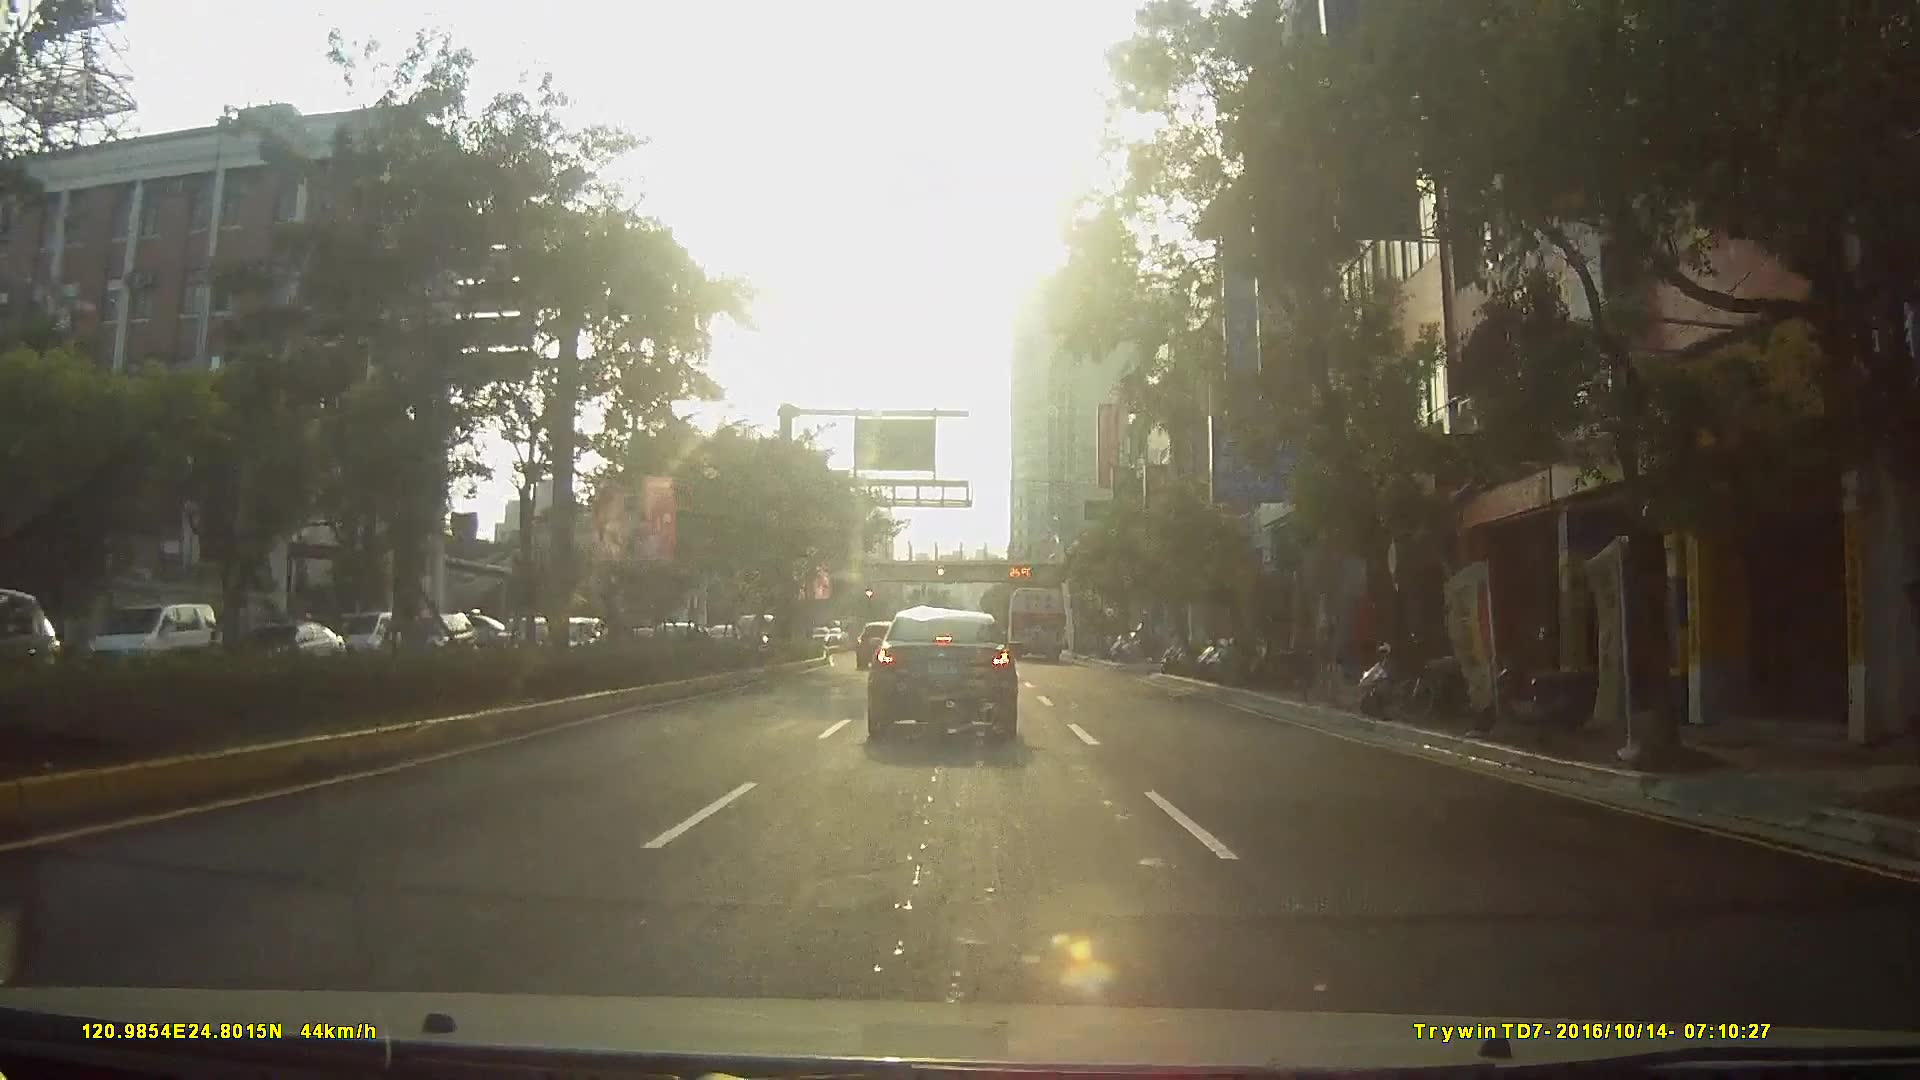vehicle: (862, 605, 1017, 738), (71, 600, 215, 676), (1, 587, 71, 713), (214, 618, 353, 680), (1004, 582, 1067, 655), (334, 609, 415, 663), (400, 611, 471, 662), (491, 611, 553, 650), (855, 621, 898, 670)
